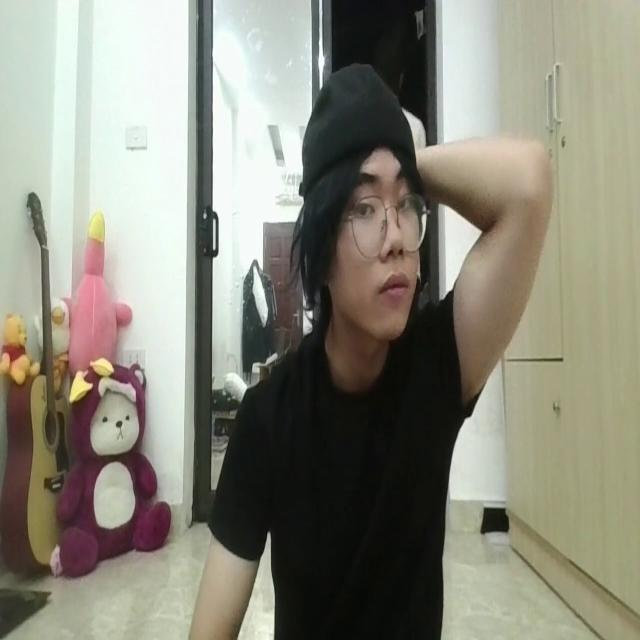student: (190, 64, 552, 640)
